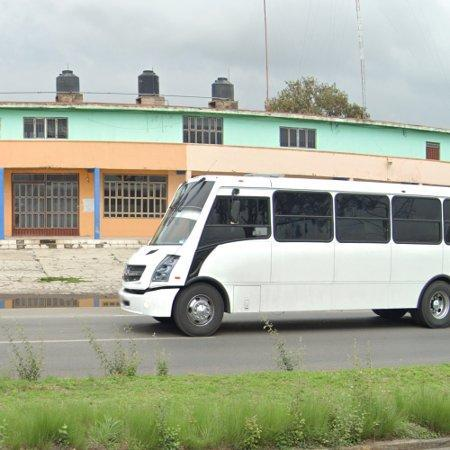buses: (120, 175, 450, 337)
